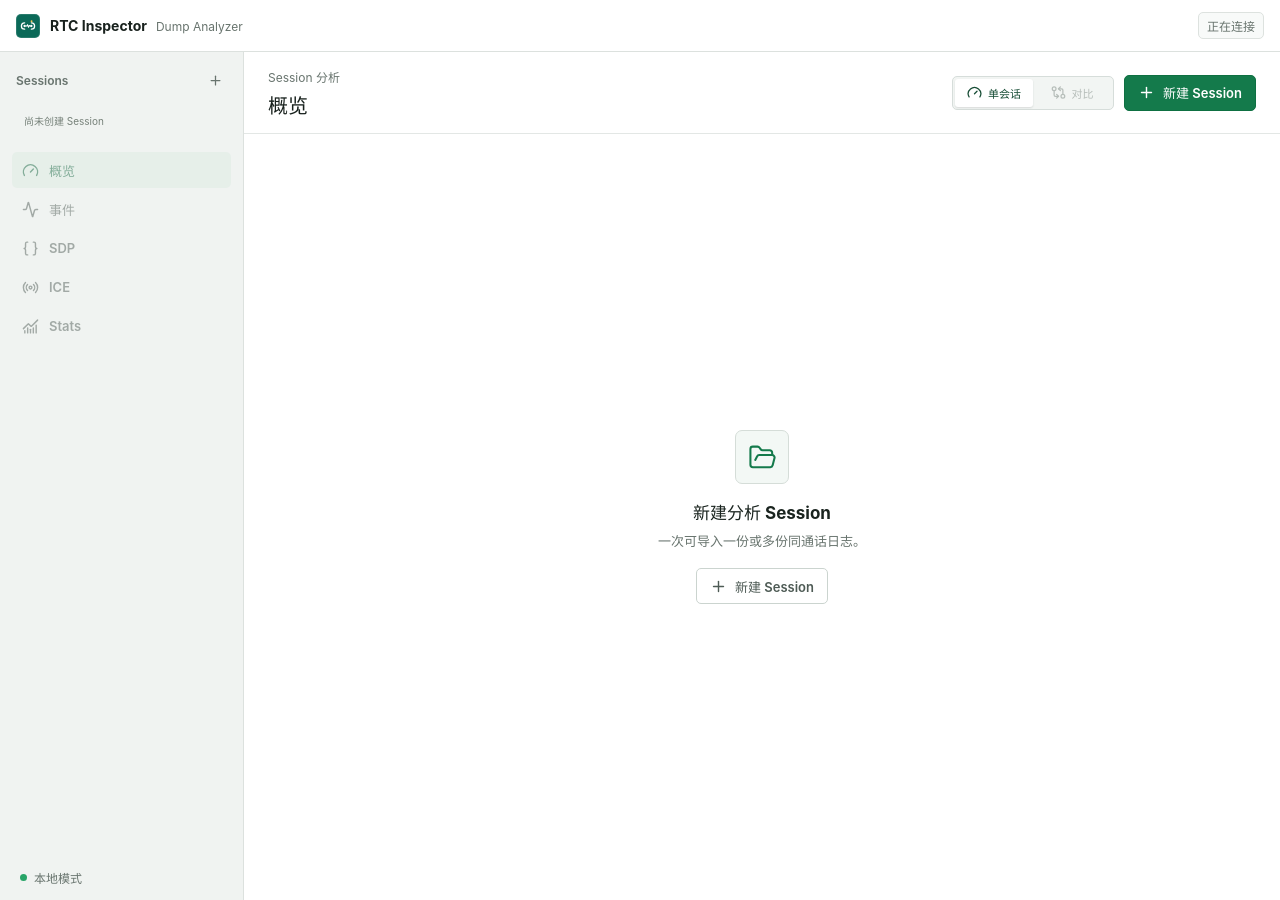
Test: App › renders structured parser errors when every source fails
Click the button named "新建 Session" at (215, 80), box [203, 68, 227, 92]
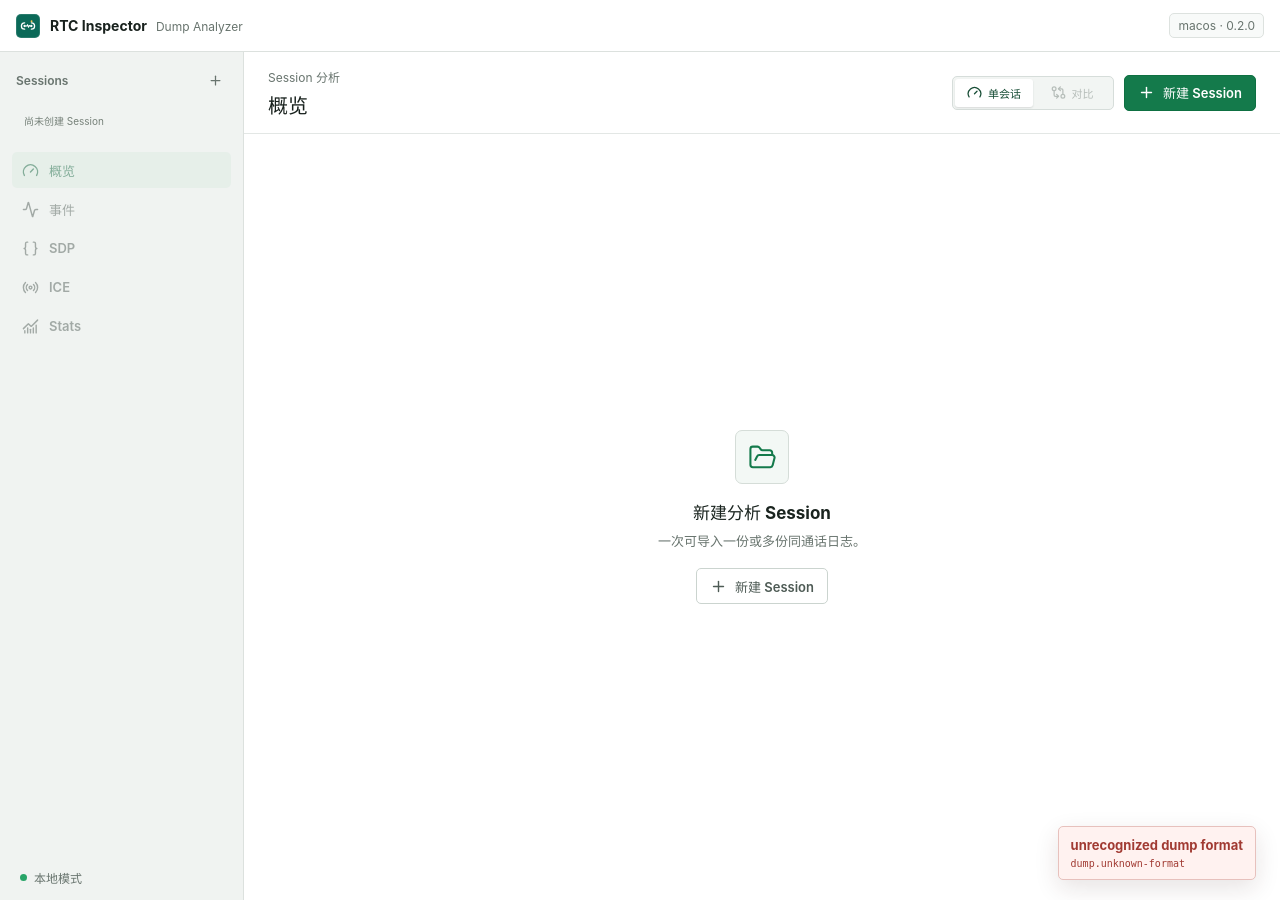
Expected: the message shows "unrecognized dump format", [1071, 837, 1243, 853]
Expected: the message shows "dump.unknown-format", [1071, 858, 1185, 869]
